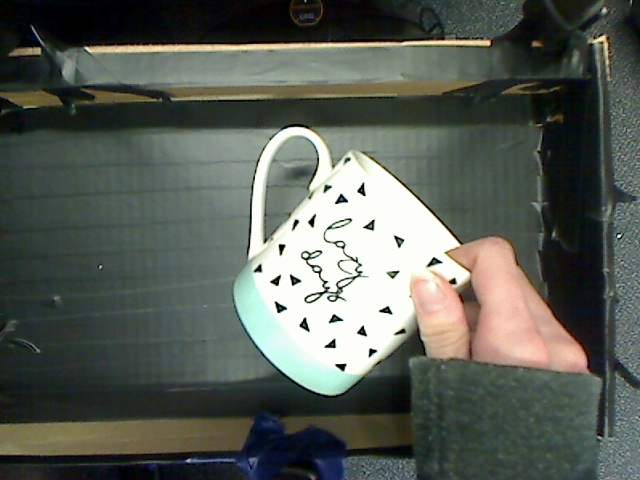mug: (227, 126, 496, 398)
